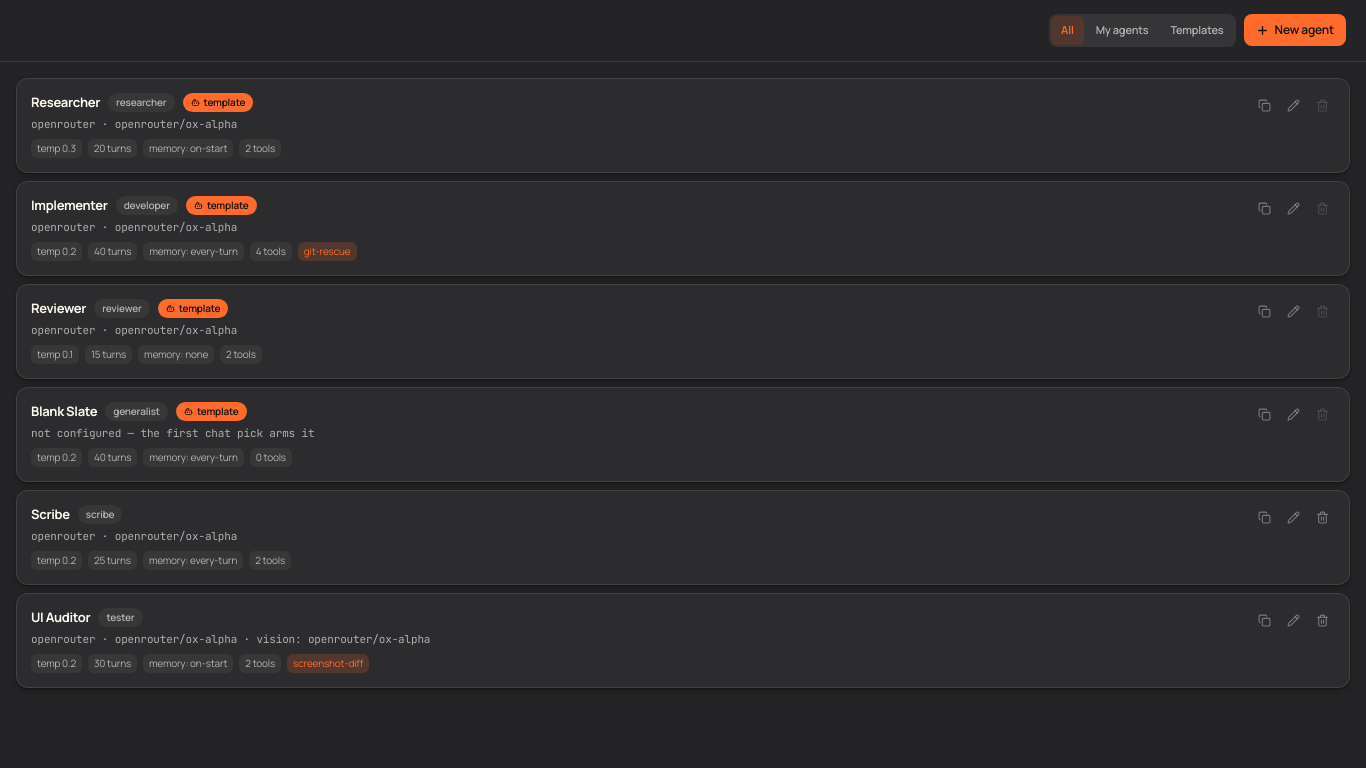
Test: AgentsScreen (fixture backend) › delete asks for confirmation and removes the agent
Expected: the text "UI Auditor" is shown, top-left (31, 608), bottom-right (90, 627)
Step 1. Click the button named "Delete UI Auditor" → click(1322, 620), box top-left (1310, 608), bottom-right (1335, 632)
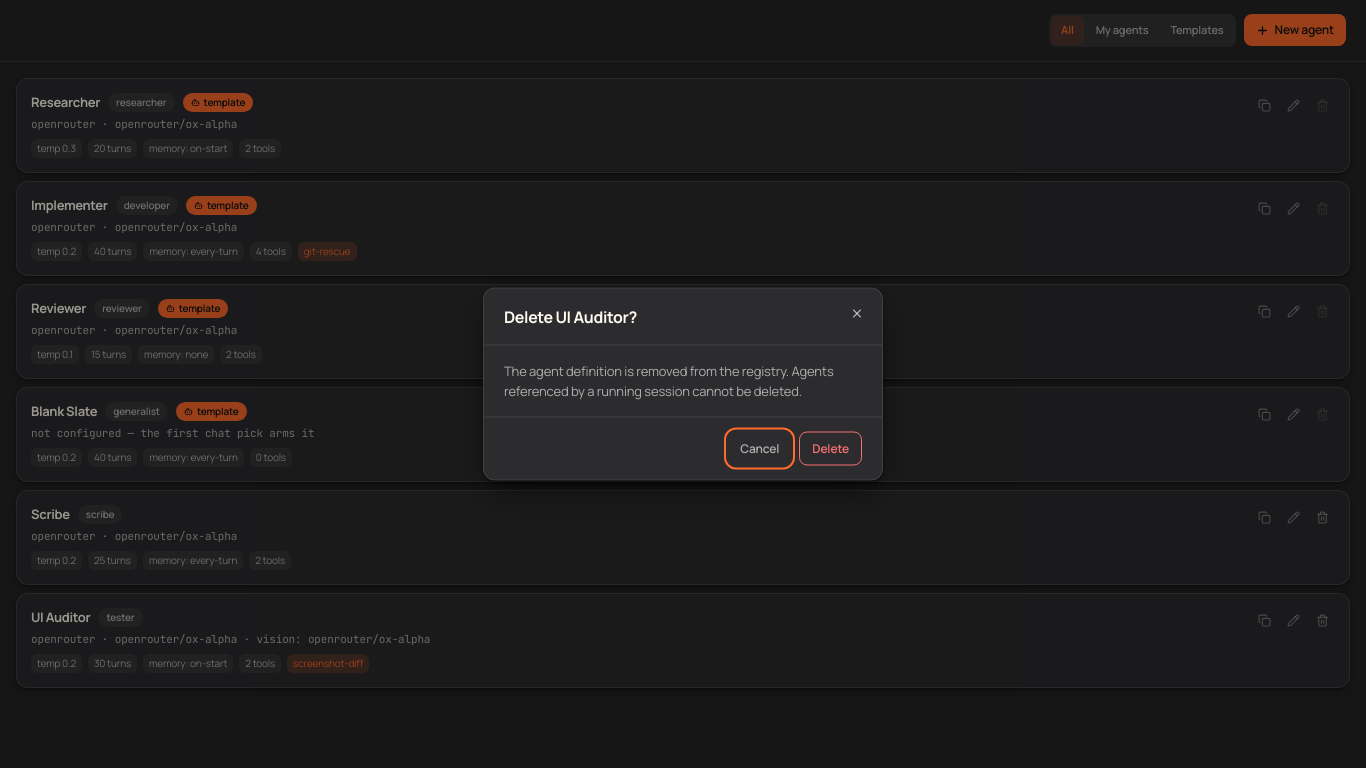
Step 2. Click the button "Delete" → click(831, 448), box top-left (799, 432), bottom-right (862, 466)
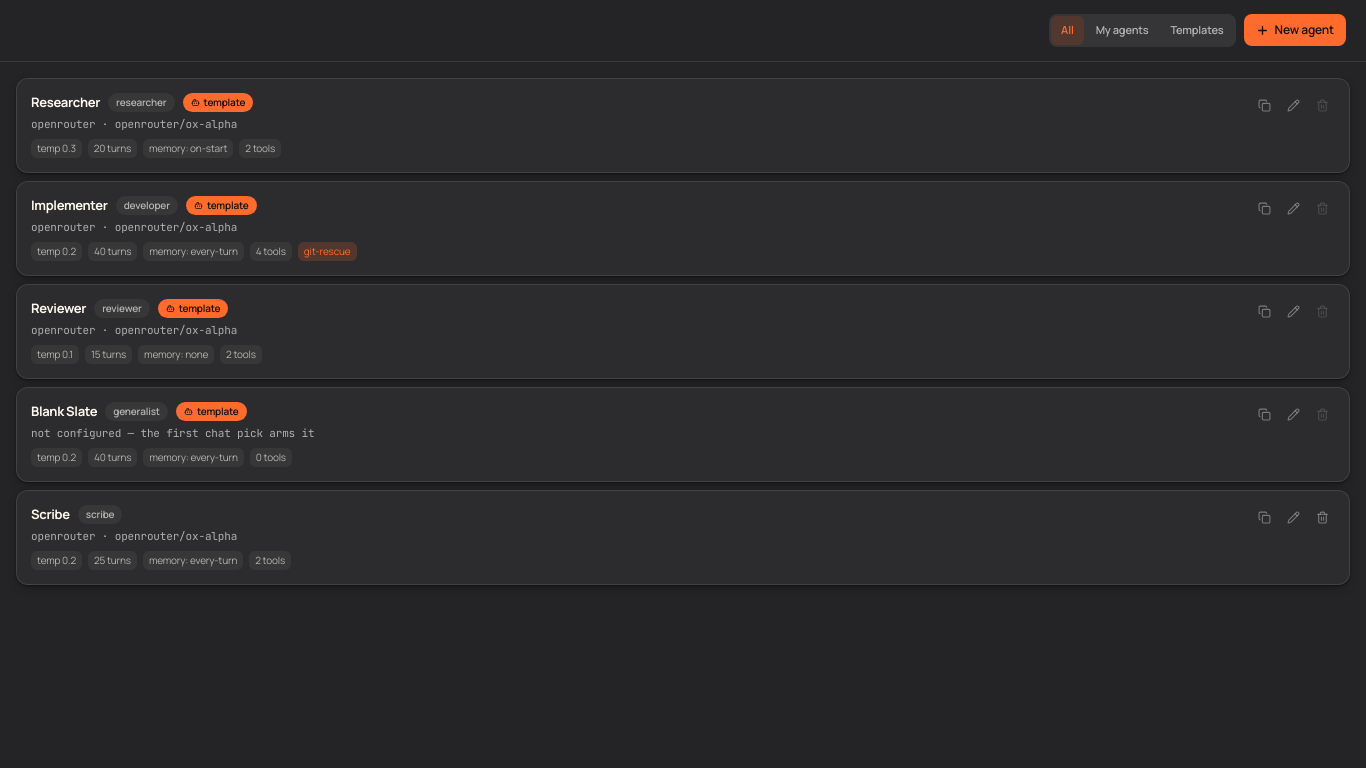
Expected: the text "UI Auditor" is gone
